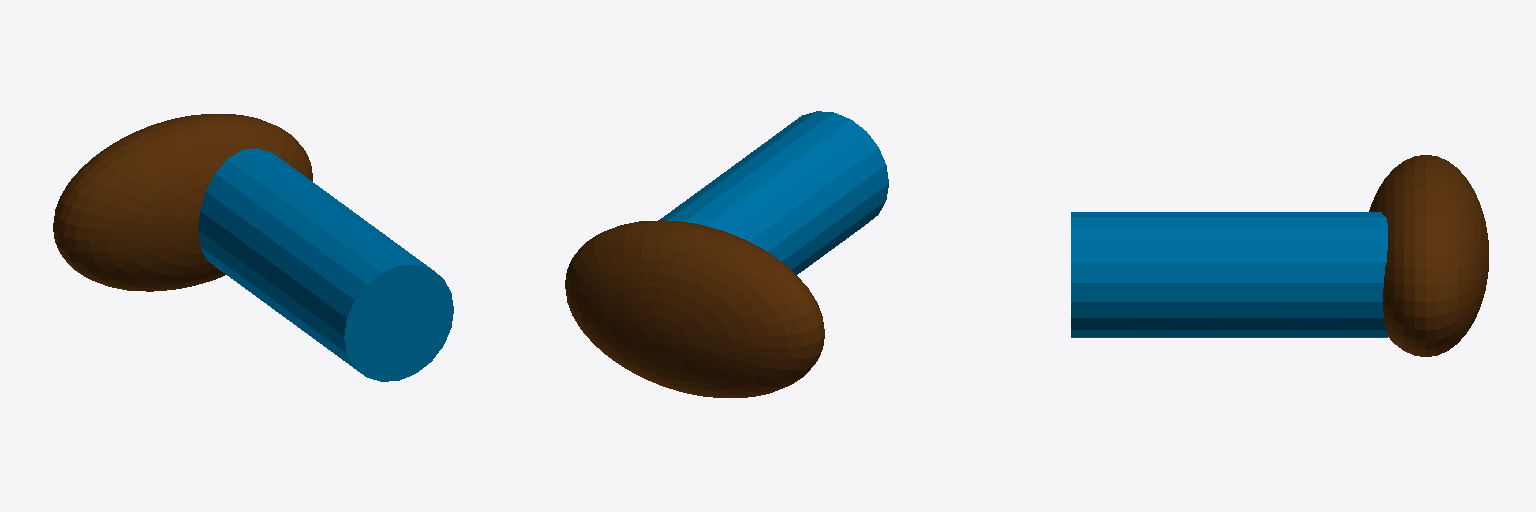
Rendered from tinker.obj.
3 views of the same model, side by side, from view 1: azimuth 30°, elevation 25°; view 2: azimuth 150°, elevation 25°; view 3: azimuth 270°, elevation 25° (orthographic).
Parts seen in each view (by area): view 1: obj_0; view 2: obj_0; view 3: obj_0.
Part boxes in pixels (x1,y1,x2,y2): obj_0: (53,114,453,381); obj_0: (565,111,888,397); obj_0: (1071,155,1488,356).
Bounding box in the file's own units: 23 × 14 × 33.